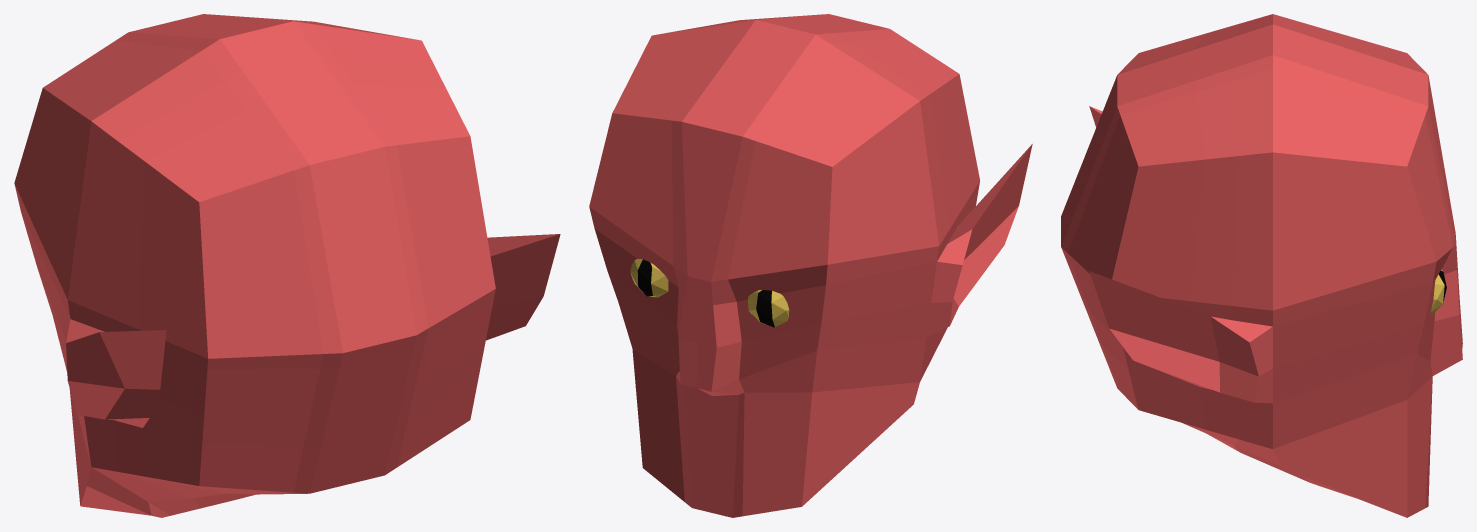
Rendered from Head.glb.
The picture shows the model from 3 angles, left to right: view 1: azimuth 30°, elevation 25°; view 2: azimuth 150°, elevation 25°; view 3: azimuth 270°, elevation 25°; orthographic projection. The views are drawn at different scales.
Visible parts, largest first — view 1: Head; view 2: Head; view 3: Head.
Part boxes in pixels (left/top/right/bottom): Head: left=14, top=14, right=560, bottom=517; Head: left=589, top=14, right=1032, bottom=517; Head: left=1061, top=14, right=1462, bottom=517.
Bounding box in the file's own units: 1.51 × 1.87 × 1.5.
